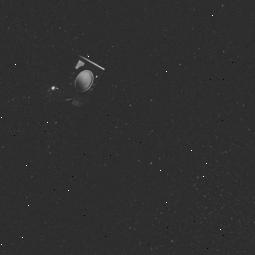proba_3_ocs: (46, 43, 107, 118)
